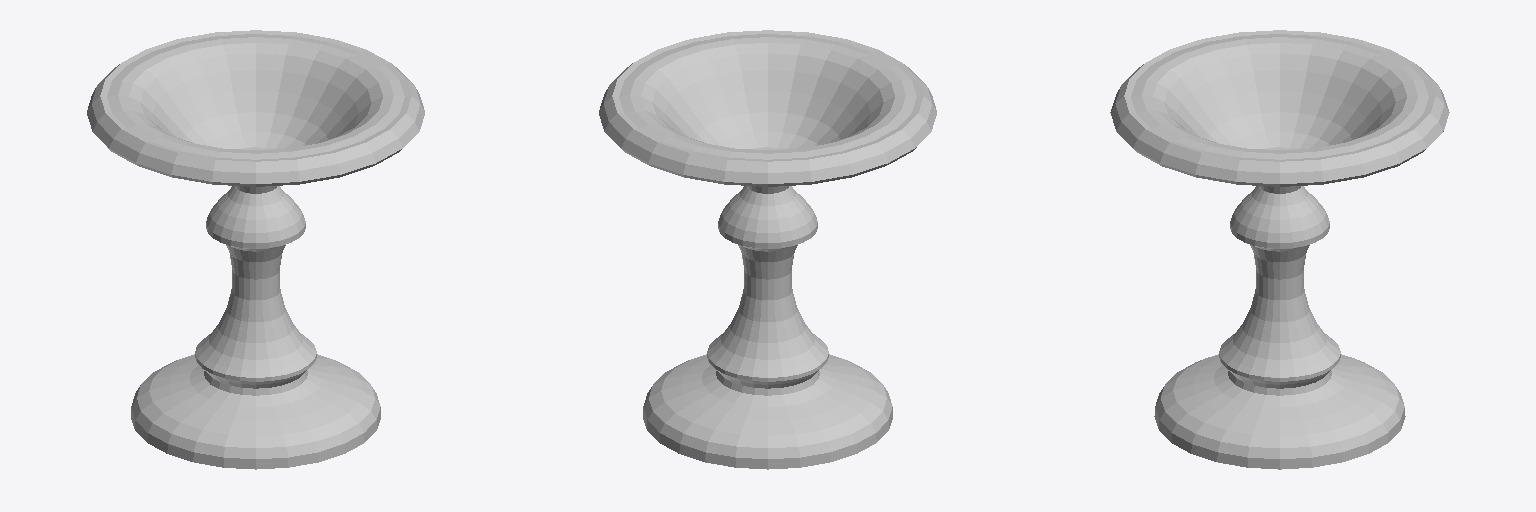
File: Fountain.obj
3 renders of one model, left to right at view 1: azimuth 30°, elevation 25°; view 2: azimuth 150°, elevation 25°; view 3: azimuth 270°, elevation 25°, orthographic.
Visible parts, largest first — view 1: FountainMesh; view 2: FountainMesh; view 3: FountainMesh.
Boxes of the visible parts, x1,y1,x2,y2 form: FountainMesh: [87, 30, 424, 469]; FountainMesh: [599, 30, 936, 469]; FountainMesh: [1110, 30, 1449, 469].
Size of the model in its own units: 2.6 by 2.71 by 2.6.